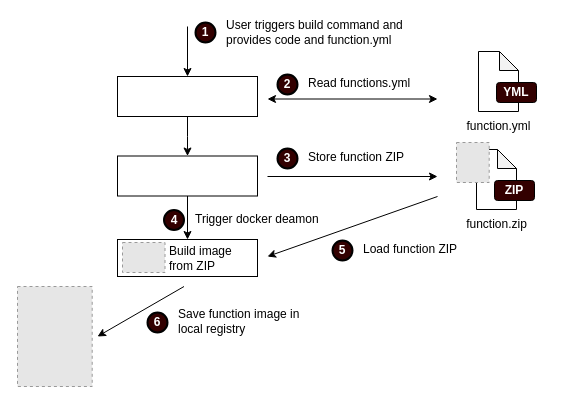
The diagram is 576 pixels wide and 404 high, and some of its shapes have lost their labels. Grey dashed boxes stand in for pictures. The shapes that lost their labels are listed below. From the top down, each one's box as (x1, y1, x2, y2) in pixels, then its label:
(116, 76, 258, 116): gfaas build function.yml
(116, 155, 258, 196): ZIP function directory
